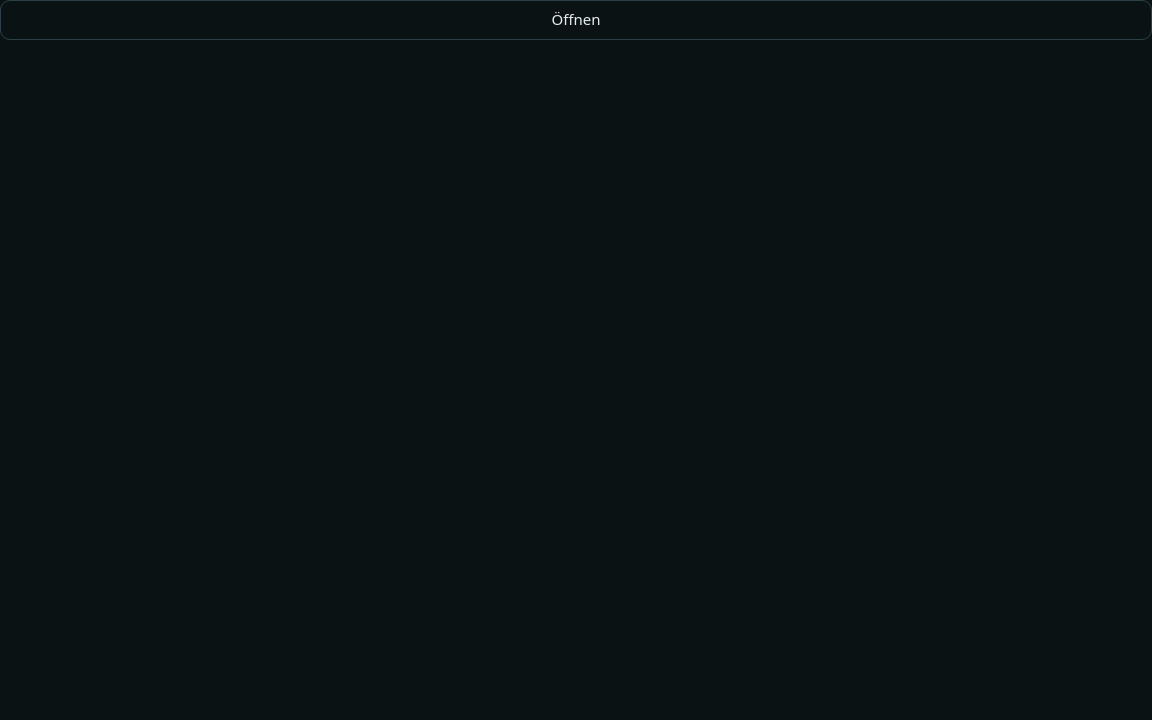
it: Dialog › rendert seinen Inhalt nur, solange er offen ist
The width and height of the screenshot is (1152, 720).
Expected: the text "Inhalt des Dialogs" is not shown
What coordinates should you click on to do the following:
click the button "Öffnen"
I would click on:
 (576, 20)
Its box is top-left (0, 0), bottom-right (1151, 40).
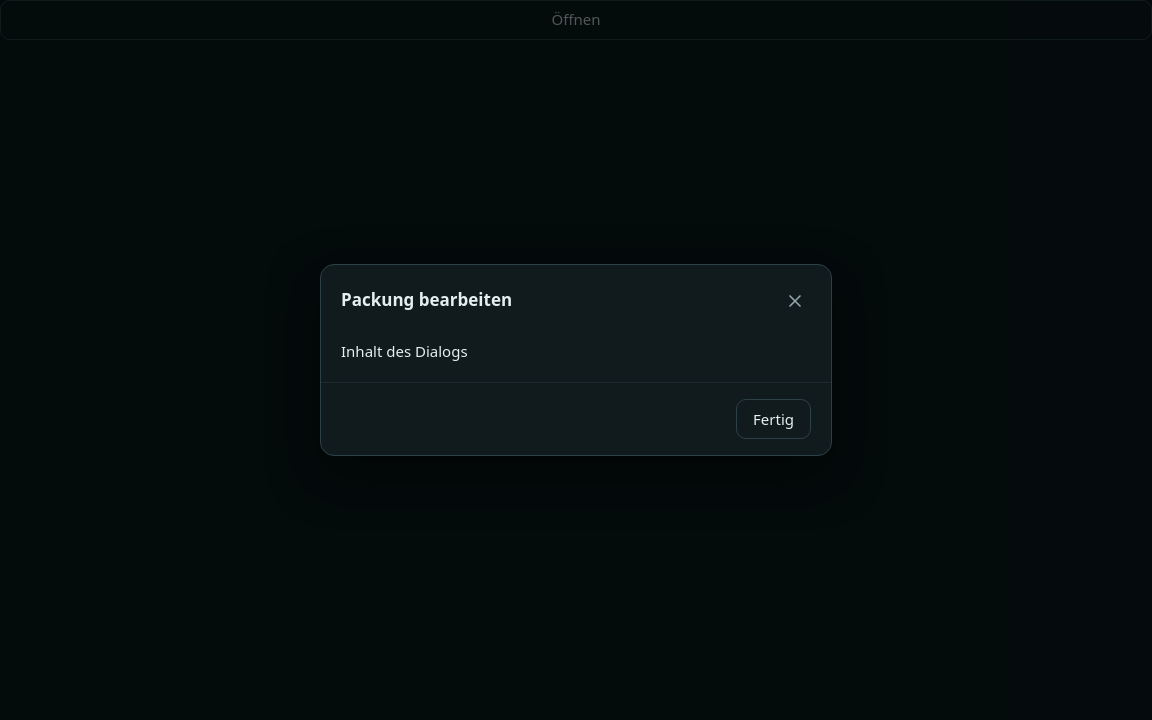
Expected: the text "Inhalt des Dialogs" is shown, top-left (341, 341), bottom-right (468, 361)
What coordinates should you click on to do the following:
click the button named "Schließen"
I would click on:
 (795, 301)
Its box is top-left (775, 281), bottom-right (815, 321).
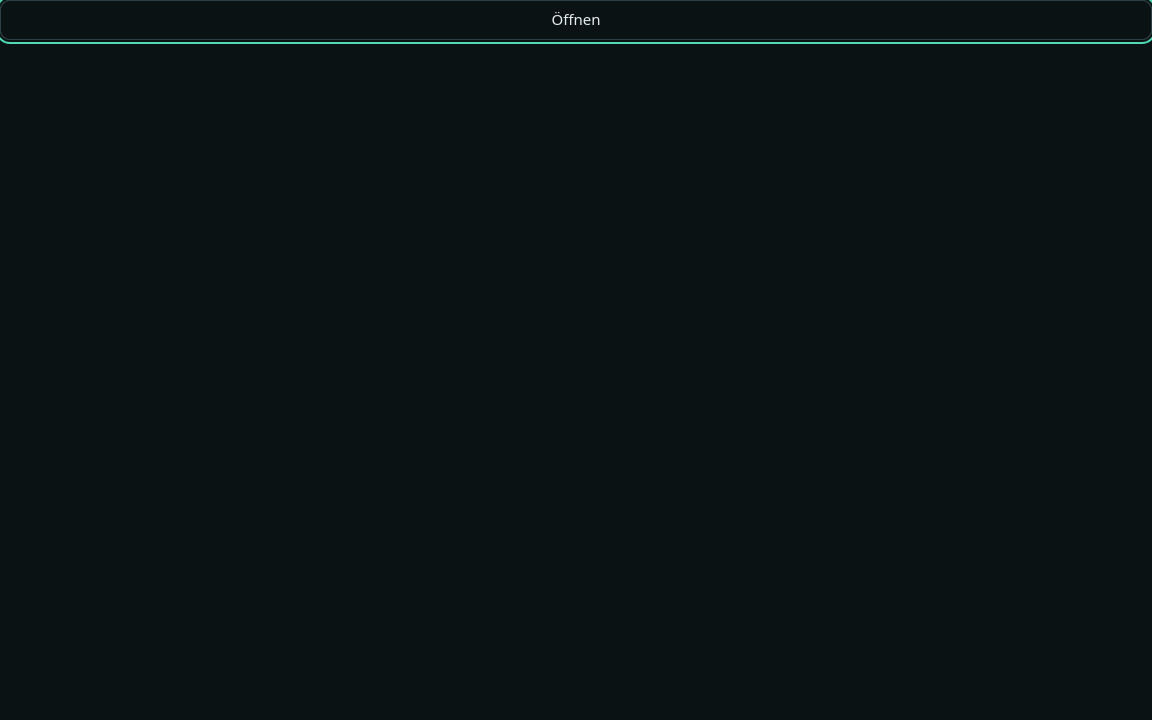
Expected: the text "Inhalt des Dialogs" is gone
